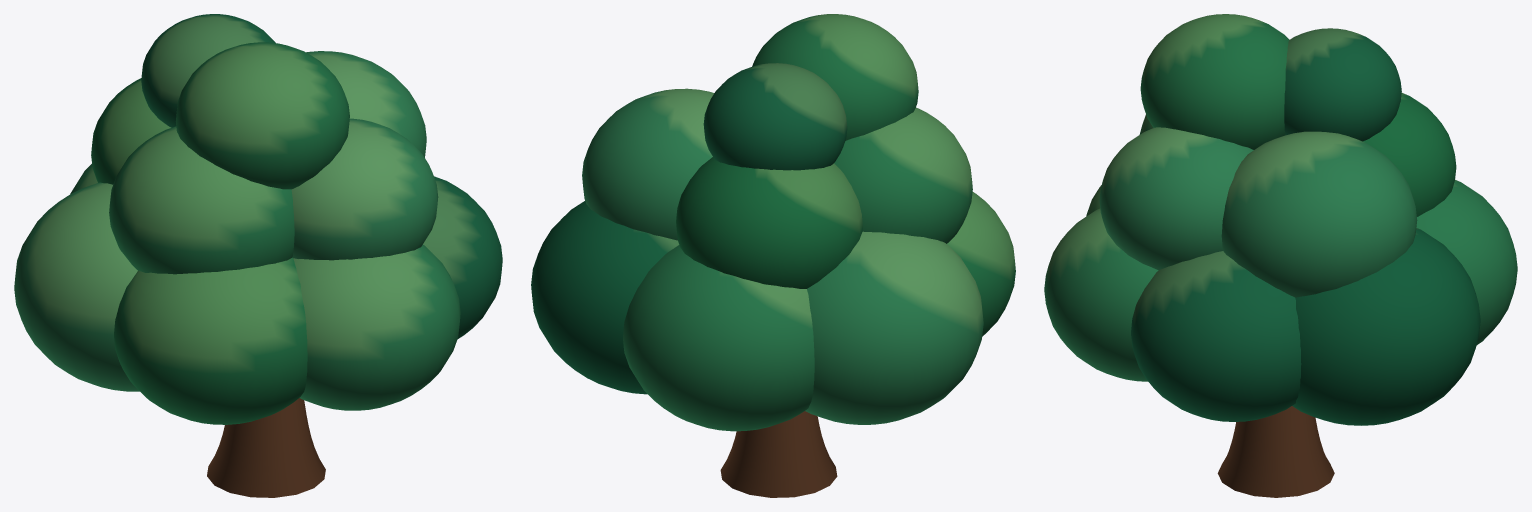
Rendered from pine-tree.obj.
3 renders of one model, left to right at view 1: azimuth 30°, elevation 25°; view 2: azimuth 150°, elevation 25°; view 3: azimuth 270°, elevation 25°, orthographic. The views are drawn at different scales.
Parts seen in each view (by area): view 1: tree; view 2: tree; view 3: tree.
Part boxes in pixels (x1,y1,x2,y2): tree: (14,14,502,497); tree: (531,14,1015,497); tree: (1044,14,1517,497).
Size of the model in its own units: 249 by 256 by 252.
